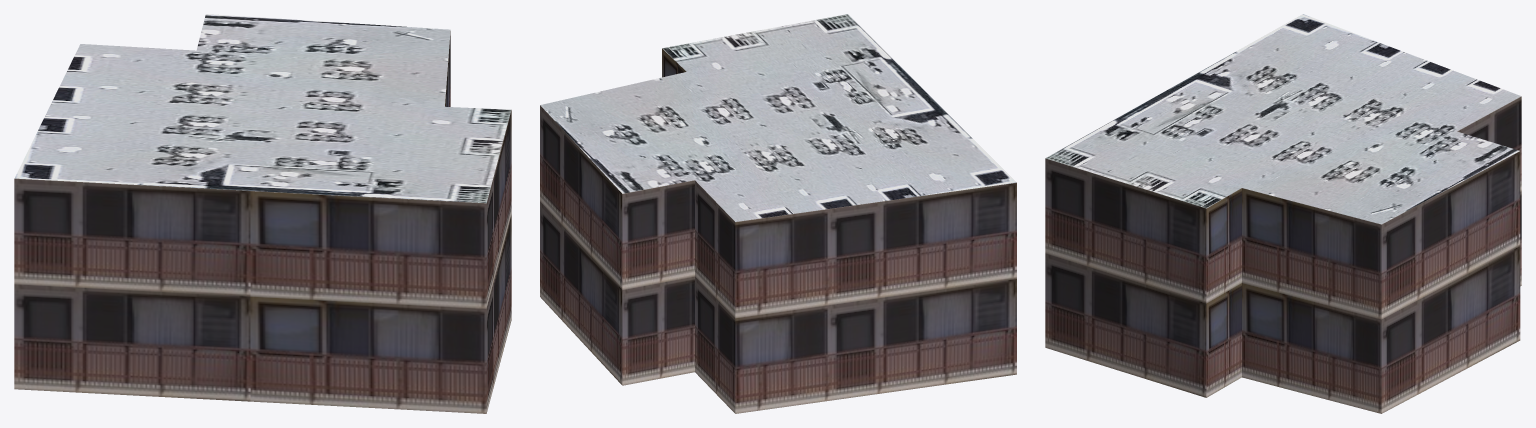
File: ResTex__5296.fbx
3 renders of one model, left to right at view 1: azimuth 30°, elevation 25°; view 2: azimuth 150°, elevation 25°; view 3: azimuth 270°, elevation 25°, orthographic. The views are drawn at different scales.
Visible parts, largest first — view 1: CityEngineMaterial_6_m, CityEngineMaterial_8_m; view 2: CityEngineMaterial_6_m, CityEngineMaterial_8_m; view 3: CityEngineMaterial_6_m, CityEngineMaterial_8_m.
Part boxes in pixels (box(x1,y1,x2,y2)): CityEngineMaterial_6_m: box(14, 31, 511, 413); CityEngineMaterial_8_m: box(14, 14, 511, 203); CityEngineMaterial_6_m: box(540, 48, 1016, 413); CityEngineMaterial_8_m: box(540, 14, 1016, 221); CityEngineMaterial_6_m: box(1045, 96, 1521, 413); CityEngineMaterial_8_m: box(1046, 14, 1521, 224).
Bounding box in the file's own units: 14.3 × 6 × 13.67.
2 materials, 2 textured.
